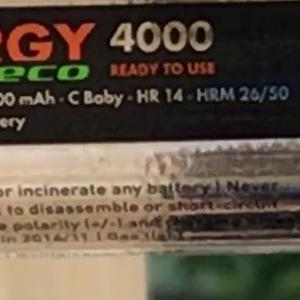keyword: (128, 81, 191, 111)
